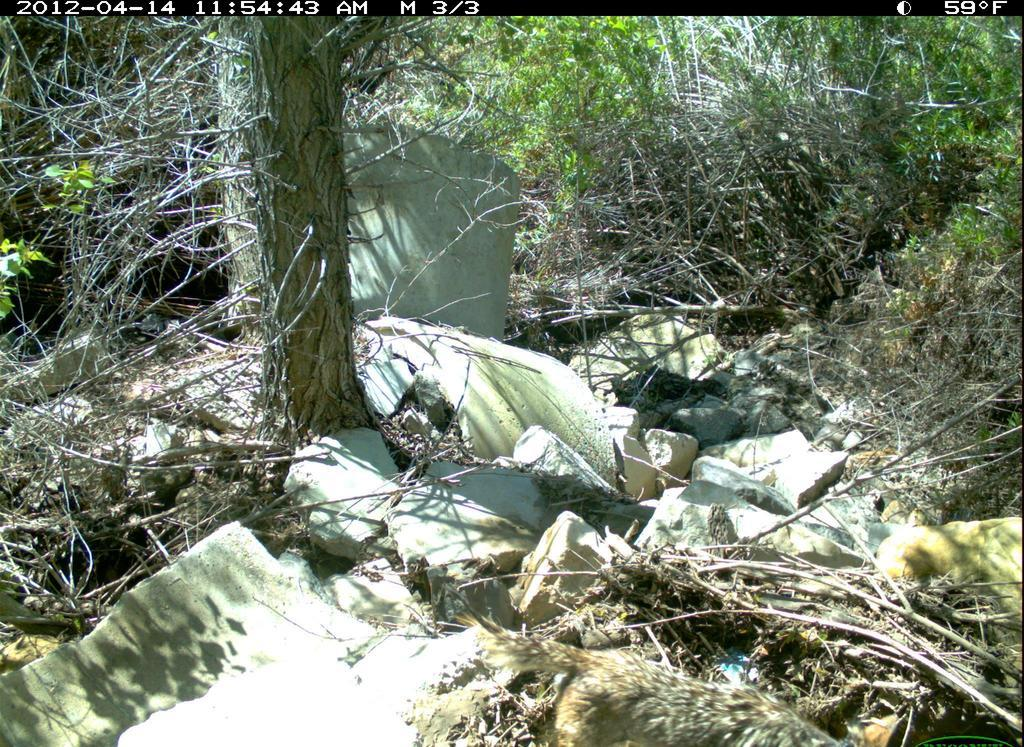coyote: (452, 605, 907, 744)
